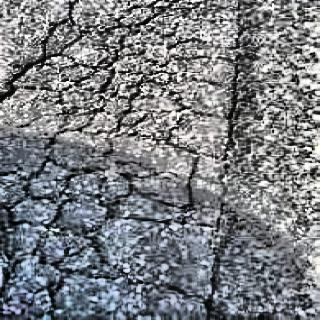alligator-crack: (0, 0, 237, 320)
